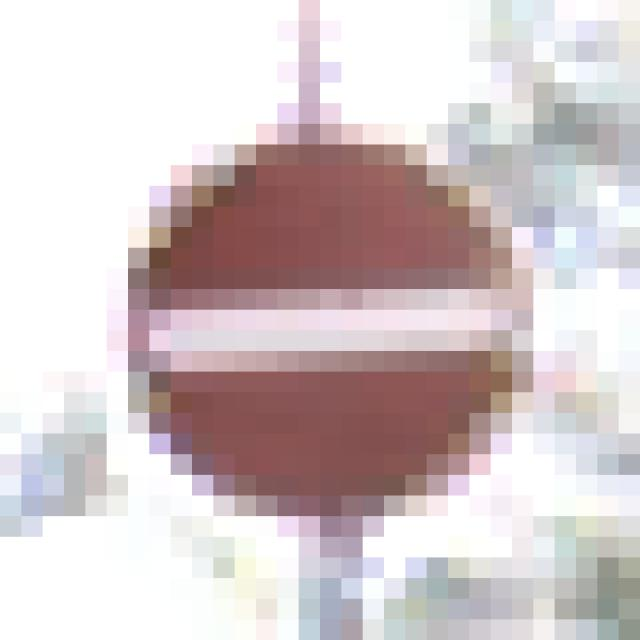No Entry: (108, 125, 534, 538)
